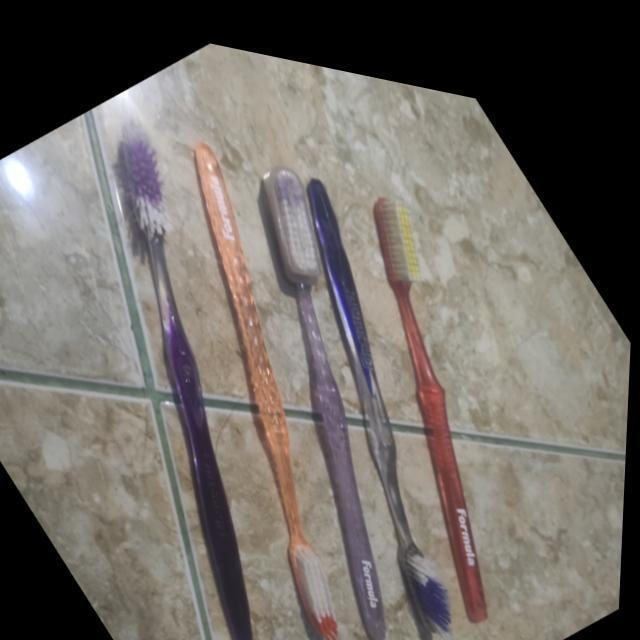toothbrush: (173, 121, 350, 635), (290, 124, 467, 632), (107, 109, 273, 640), (241, 141, 403, 640), (353, 164, 523, 608)
